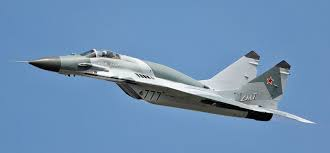fighter: (25, 45, 319, 126)
